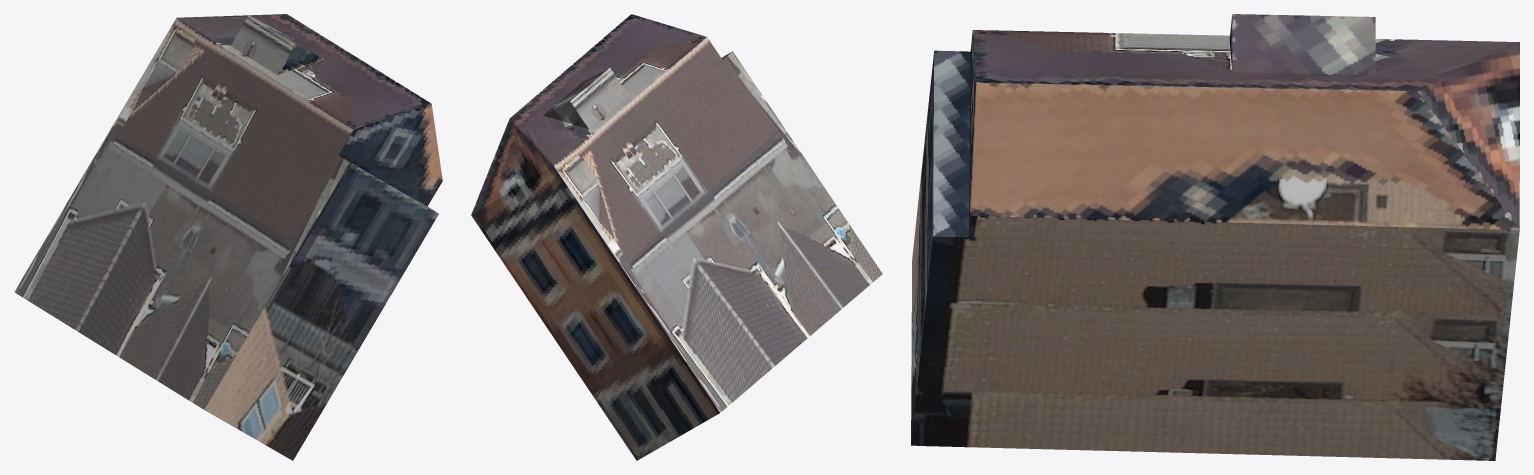
3 views of the same model, side by side, from view 1: azimuth 30°, elevation 25°; view 2: azimuth 150°, elevation 25°; view 3: azimuth 270°, elevation 25° (orthographic). The views are drawn at different scales.
Visible parts, largest first — view 1: BAG_0599100000688759 (×4); view 2: BAG_0599100000688759 (×4); view 3: BAG_0599100000688759 (×4).
Boxes of the visible parts, bbox=[...] form: BAG_0599100000688759 (×4): bbox=[14, 14, 442, 460]; BAG_0599100000688759 (×4): bbox=[471, 14, 882, 460]; BAG_0599100000688759 (×4): bbox=[911, 14, 1519, 460].
Size of the model in its own units: 10.63 by 12.71 by 13.15.
5 materials, 5 textured.
